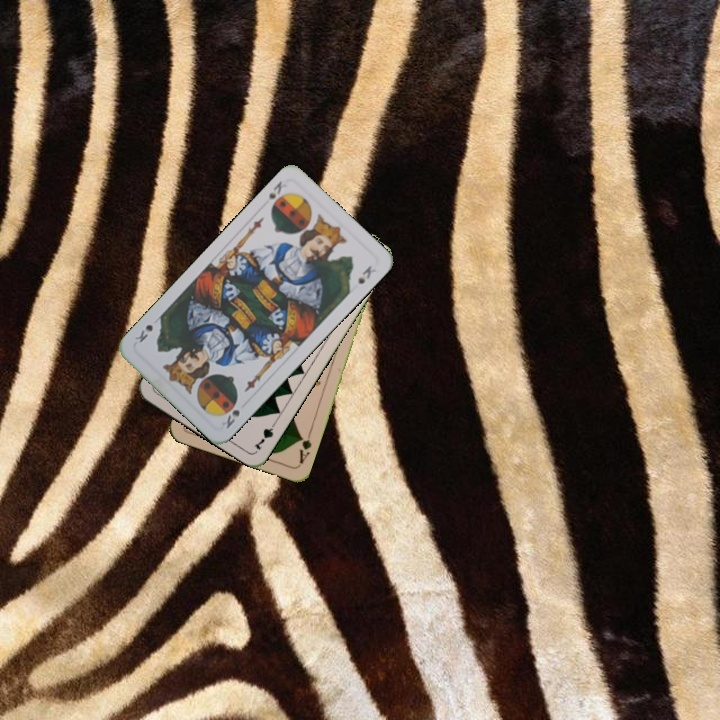G7: (250, 416, 279, 453)
GA: (295, 427, 314, 466)
SK: (264, 177, 290, 213), (218, 406, 242, 431)
